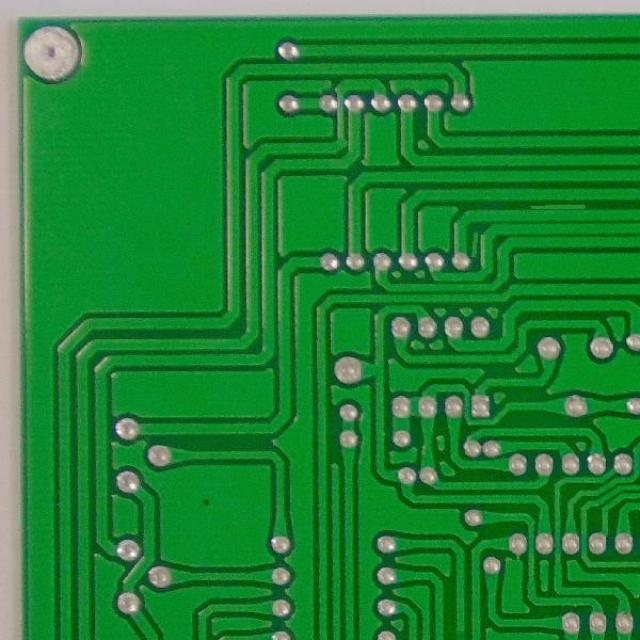spurious_copper: (523, 197, 593, 216), (466, 228, 481, 262)
